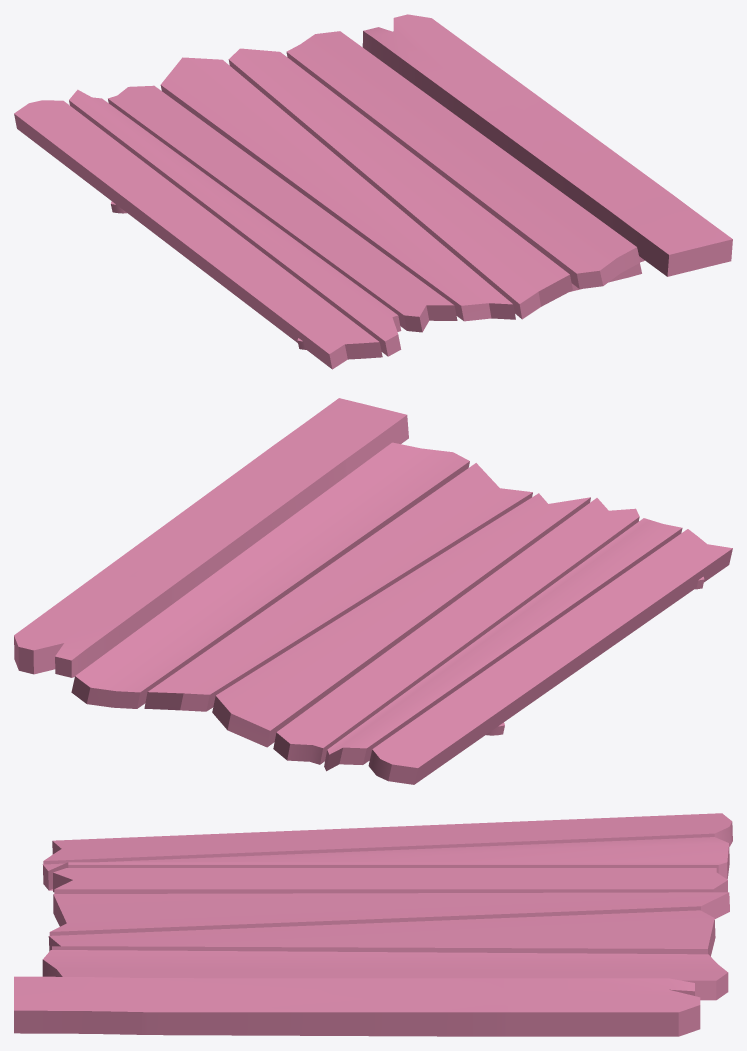
Rendered from Shutters.fbx.
The picture shows the model from 3 angles, top to bottom: view 1: azimuth 30°, elevation 25°; view 2: azimuth 150°, elevation 25°; view 3: azimuth 270°, elevation 25°; orthographic projection. The views are drawn at different scales.
Visible parts, largest first — view 1: ShuttersFront.001, ShuttersSideWoodHinge.002; view 2: ShuttersFront.001, ShuttersSideWoodHinge.002; view 3: ShuttersFront.001, ShuttersSideWoodHinge.002.
Boxes of the visible parts, bbox=[...] form: ShuttersFront.001: bbox=[14, 31, 640, 369]; ShuttersSideWoodHinge.002: bbox=[362, 14, 732, 276]; ShuttersFront.001: bbox=[71, 442, 732, 784]; ShuttersSideWoodHinge.002: bbox=[14, 398, 408, 677]; ShuttersFront.001: bbox=[42, 813, 732, 1000]; ShuttersSideWoodHinge.002: bbox=[14, 976, 700, 1036].
Bounding box in the file's own units: 15.8 × 22.52 × 1.89.
